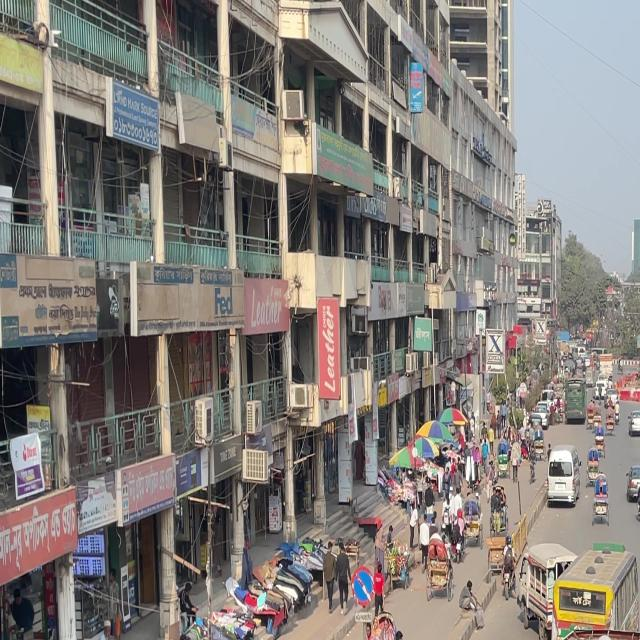bicycle: (459, 583, 478, 616)
bus: (544, 547, 640, 638), (434, 631, 640, 640), (562, 374, 586, 429), (612, 372, 640, 404)
car: (544, 448, 581, 505), (546, 448, 580, 479), (626, 466, 640, 507), (594, 475, 609, 503), (624, 413, 640, 436)
motorbike: (633, 500, 640, 526)
